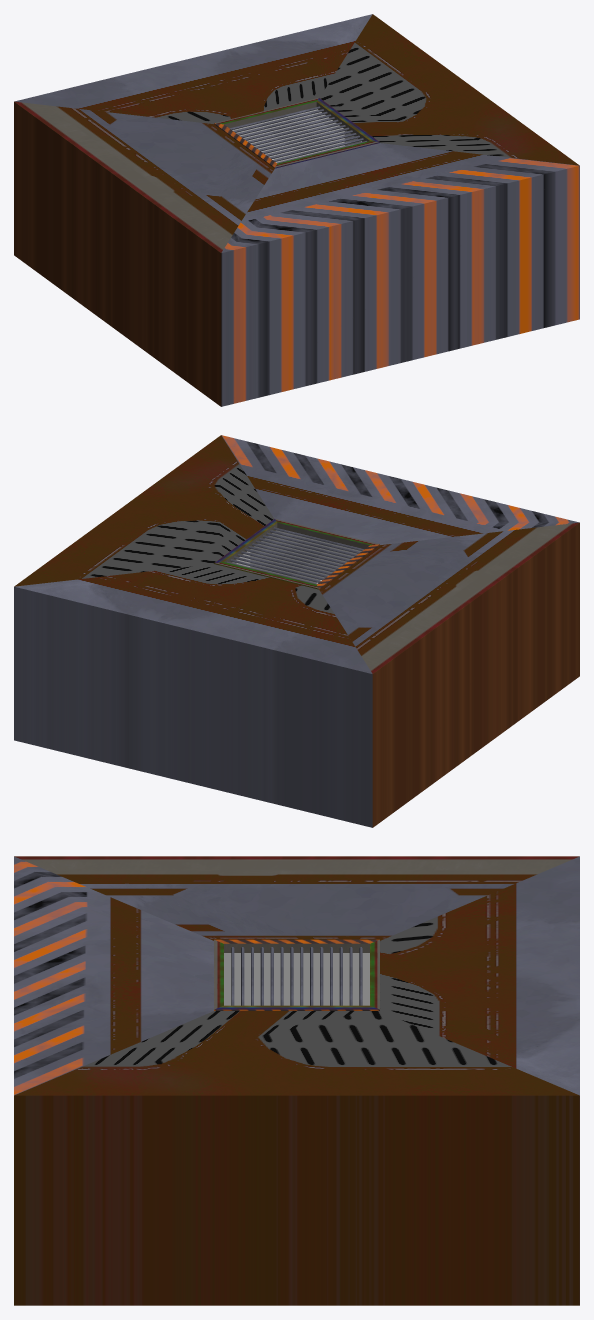
The model's file is Unity.fbx.
The picture shows the model from 3 angles, top to bottom: view 1: azimuth 30°, elevation 25°; view 2: azimuth 150°, elevation 25°; view 3: azimuth 270°, elevation 25°; orthographic projection. The views are drawn at different scales.
Visible parts, largest first — view 1: Room, Venting, Overlay; view 2: Room, Venting, Overlay; view 3: Room, Venting, Overlay.
Boxes of the visible parts, <box> form: Room: <box>14,14,579,406</box>; Venting: <box>214,97,379,168</box>; Overlay: <box>232,109,361,162</box>; Room: <box>14,435,579,827</box>; Venting: <box>214,518,379,589</box>; Overlay: <box>232,530,361,583</box>; Room: <box>14,856,579,1305</box>; Venting: <box>214,939,379,1010</box>; Overlay: <box>224,953,369,1005</box>.
Bounding box in the file's own units: 3174 × 1308 × 3174.
